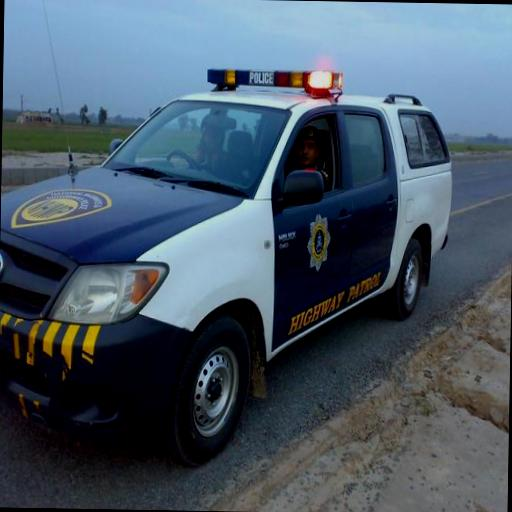Ambulance: (0, 62, 457, 467)
